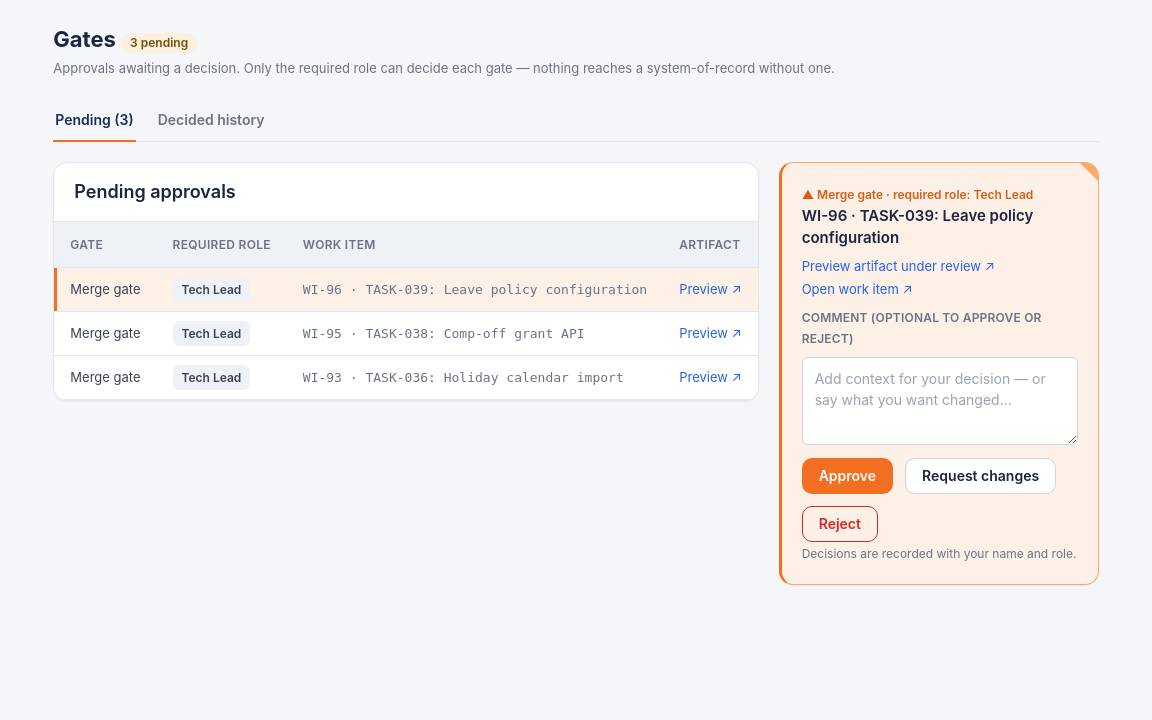
Test: the confirmation after a decision (S.No 250) › ★ never claims a decision on the gate that opens next
Click the button "Approve" at (847, 476), box 802,458 -> 893,494
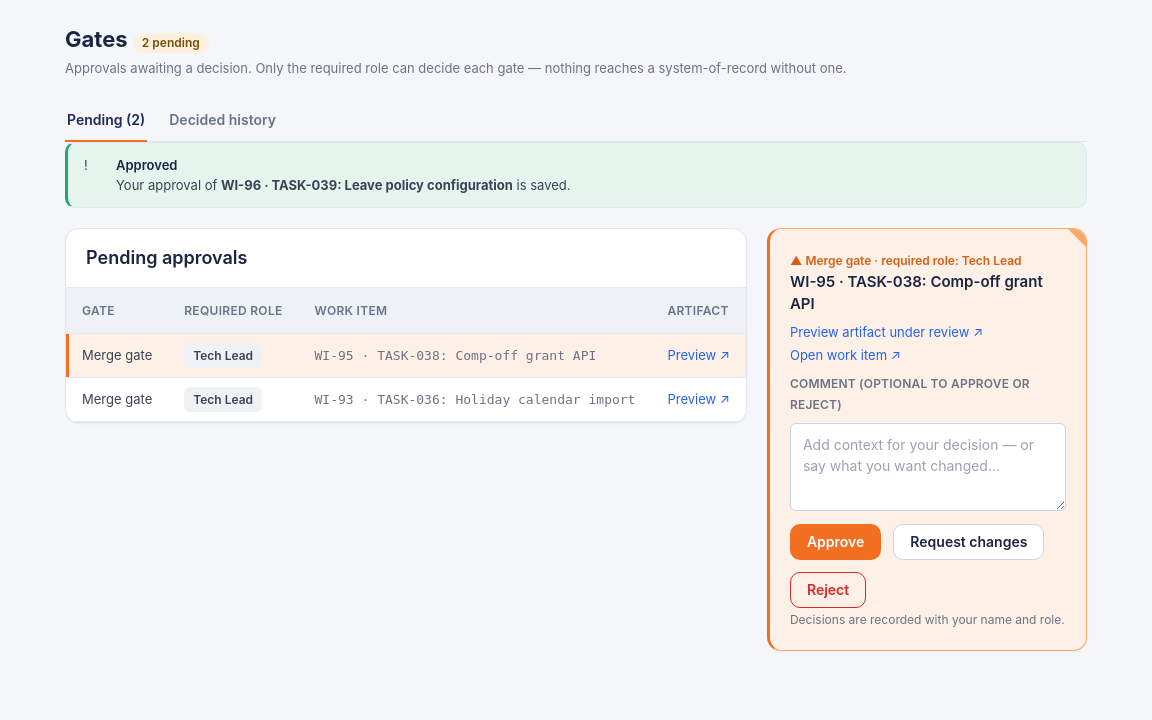
Check: the text "WI-96 · TASK-039: Leave policy configuration" is shown, box 221,177 -> 513,193
Check: the text "Approved" is shown, box 116,157 -> 177,173
